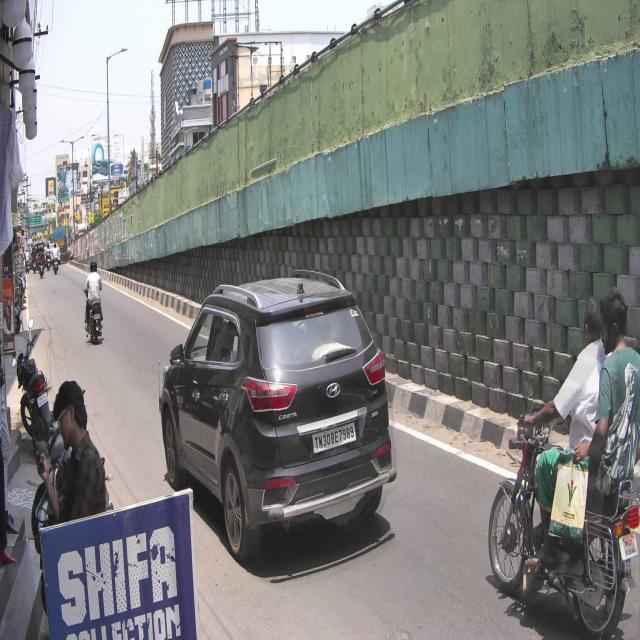double_rider: (488, 287, 640, 640)
